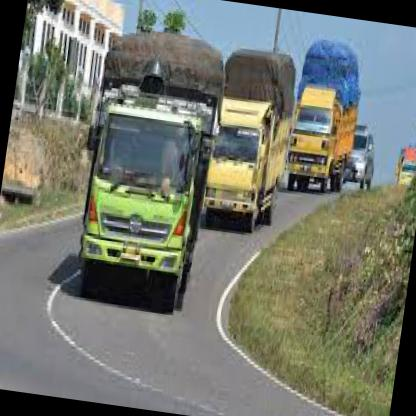truck: (74, 98, 210, 320), (197, 104, 274, 237), (283, 94, 344, 198)
